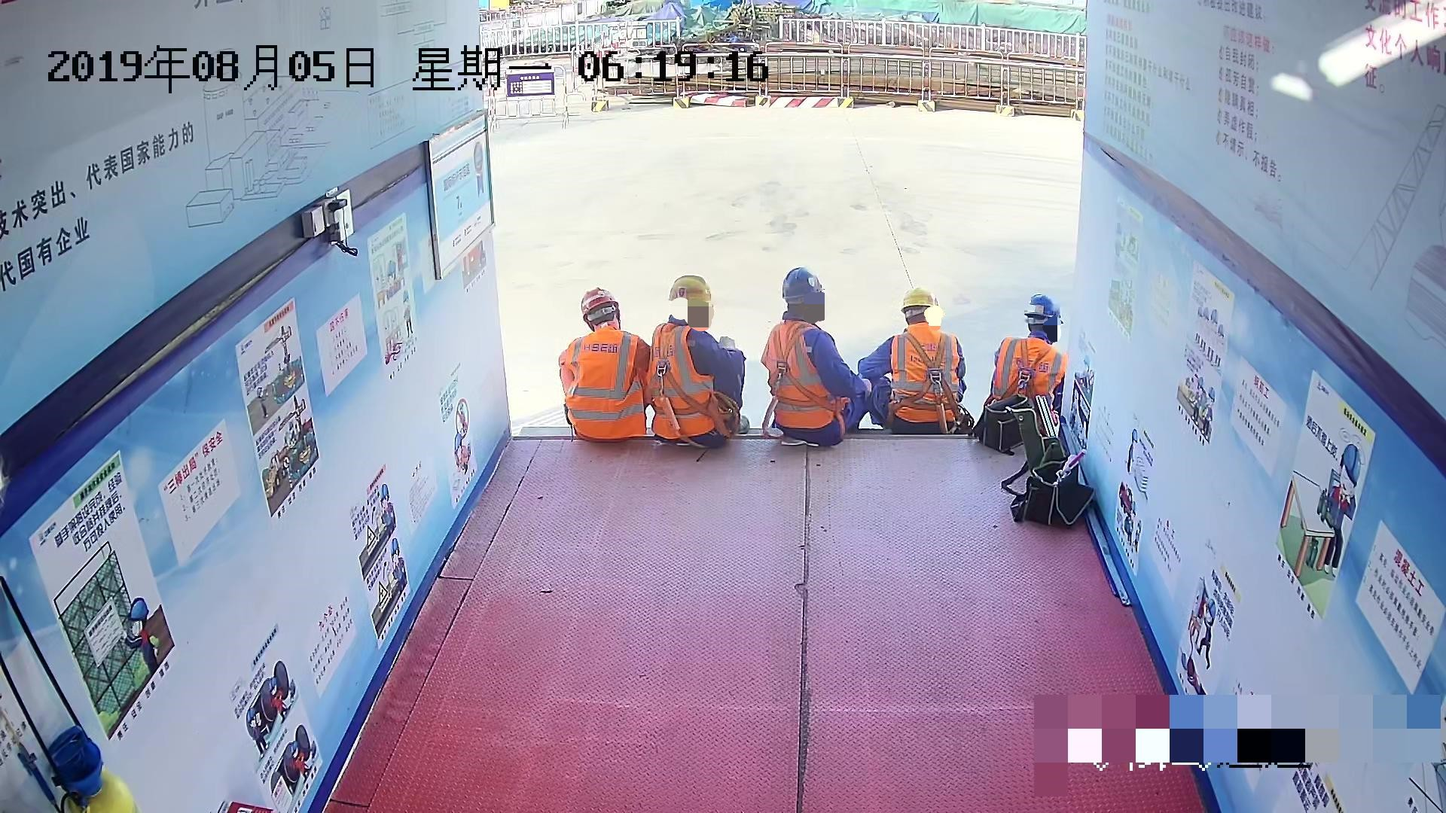hat: (665, 273, 717, 329), (782, 269, 826, 322), (1020, 291, 1065, 341), (573, 285, 621, 330), (899, 288, 945, 327)
person: (758, 265, 869, 449), (645, 276, 752, 445), (553, 287, 658, 443), (859, 284, 962, 437), (981, 288, 1073, 437)
